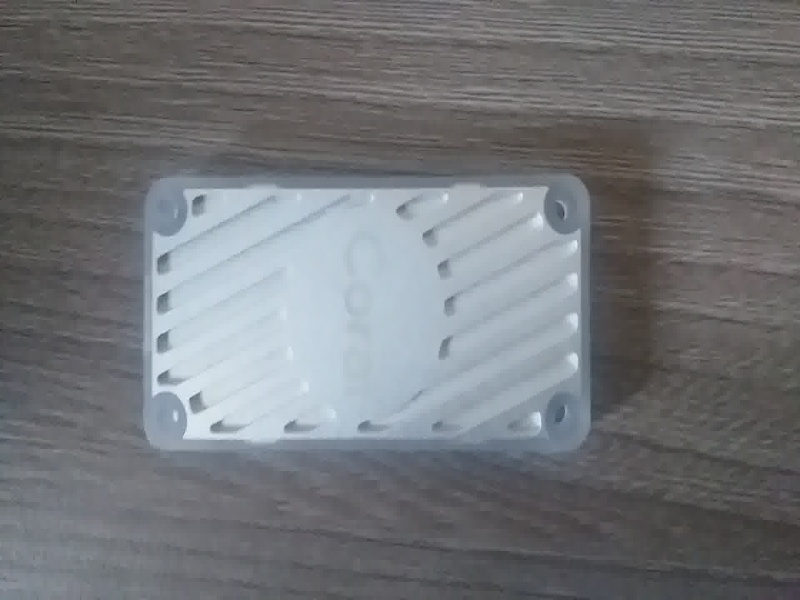coral: (126, 168, 625, 467)
